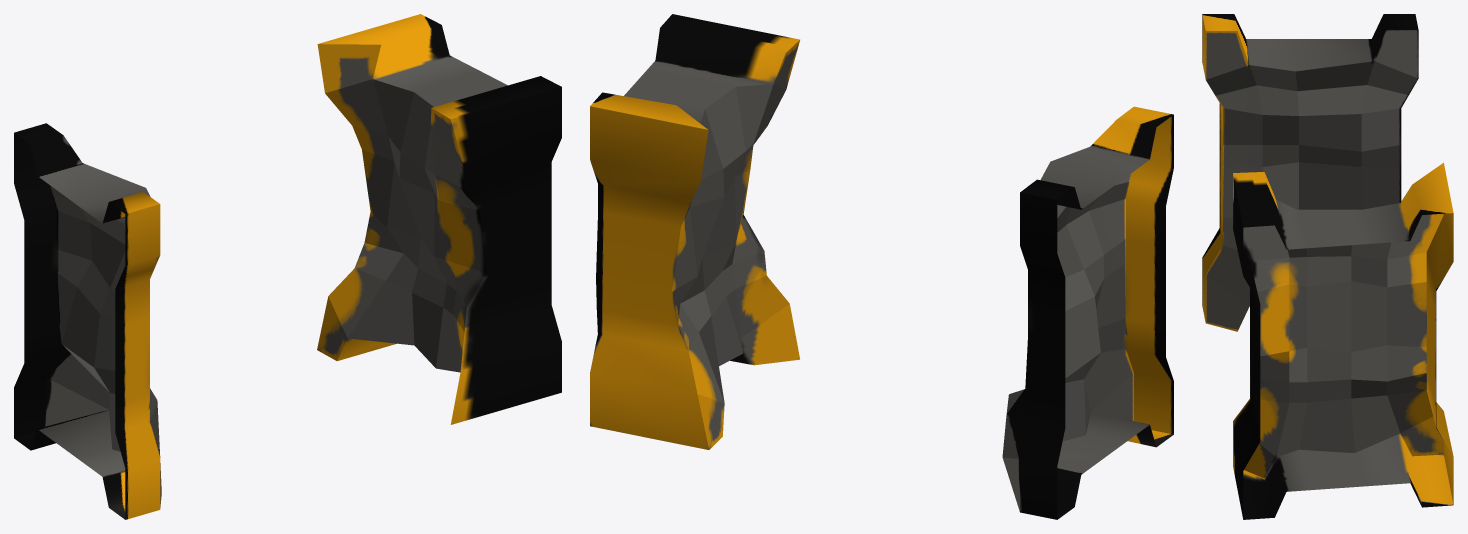
The model's file is segment_broken.FBX.
The picture shows the model from 3 angles, left to right: view 1: azimuth 30°, elevation 25°; view 2: azimuth 150°, elevation 25°; view 3: azimuth 270°, elevation 25°; orthographic projection. The views are drawn at different scales.
Visible parts, largest first — view 1: Object001; view 2: Object001; view 3: Object001.
Part boxes in pixels (x1,y1,x2,y2): Object001: [14, 14, 561, 519]; Object001: [590, 14, 1173, 519]; Object001: [1202, 14, 1453, 519].
Size of the model in its own units: 47.13 by 30 by 23.36.
1 material, 1 textured.
